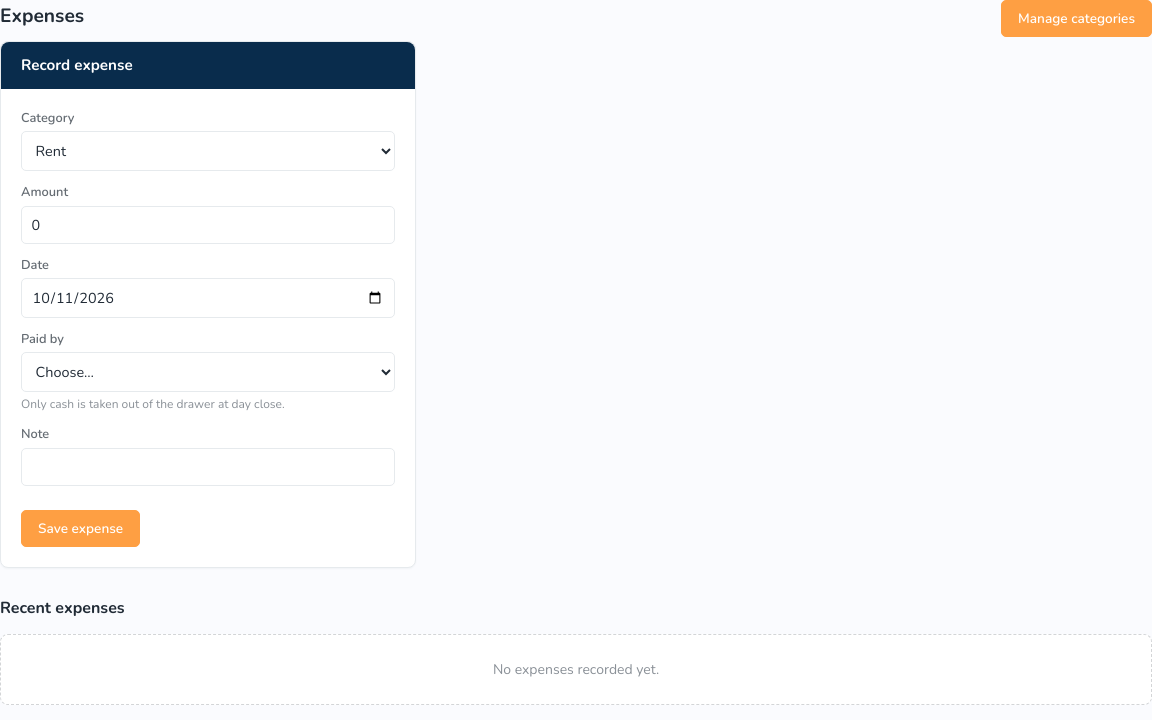
Test: managing expense categories › lists every category, hidden ones marked
Step 1. Click the button "Manage categories" → (1077, 18), box [1001,0,1151,37]
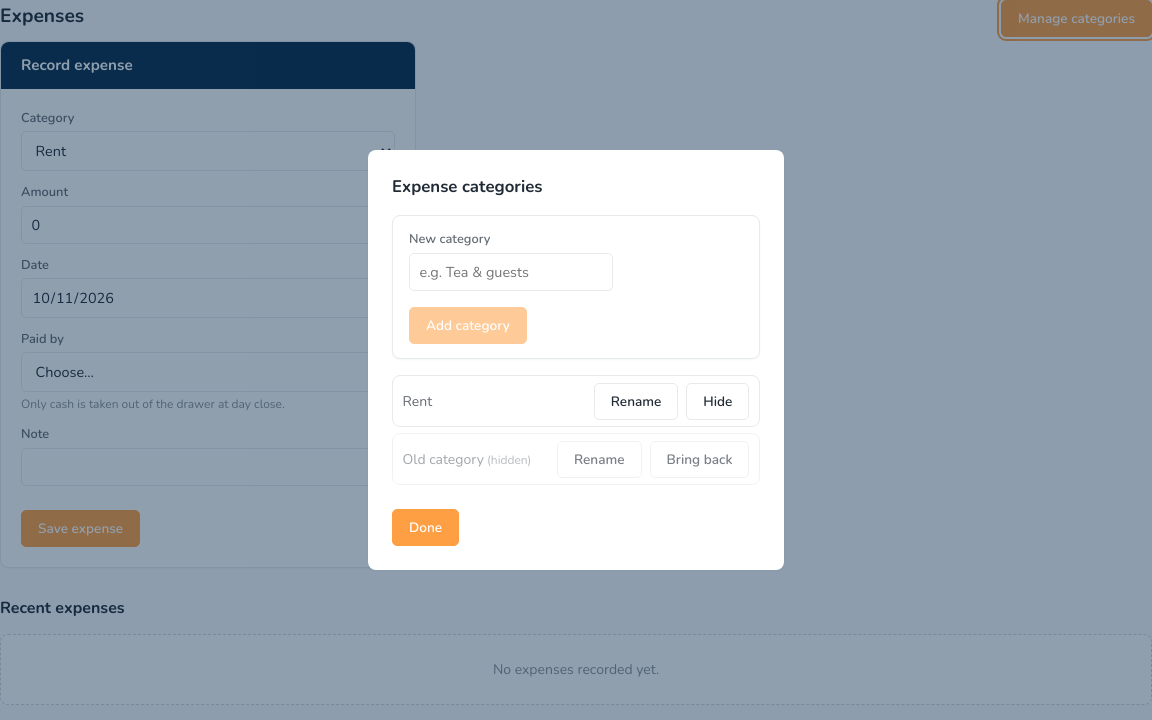
Check: the text "Rent" is shown, box [403,392,432,411]
Check: the text "(hidden)" is shown, box [484,452,531,468]
